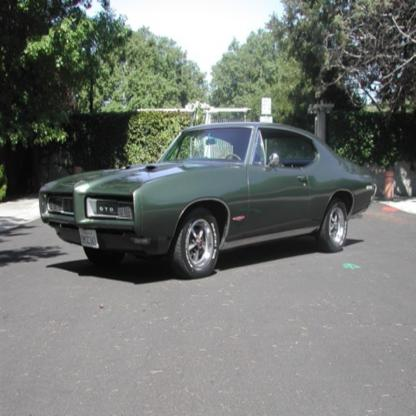Car: (38, 121, 376, 283)
